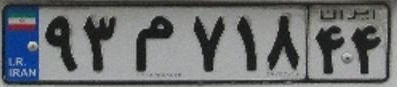character: (120, 11, 180, 73), (180, 13, 228, 74), (78, 11, 120, 76), (261, 14, 305, 76), (42, 11, 79, 74), (229, 13, 261, 74), (314, 21, 346, 76), (351, 22, 383, 76)
